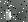person: (4, 10, 11, 21)
